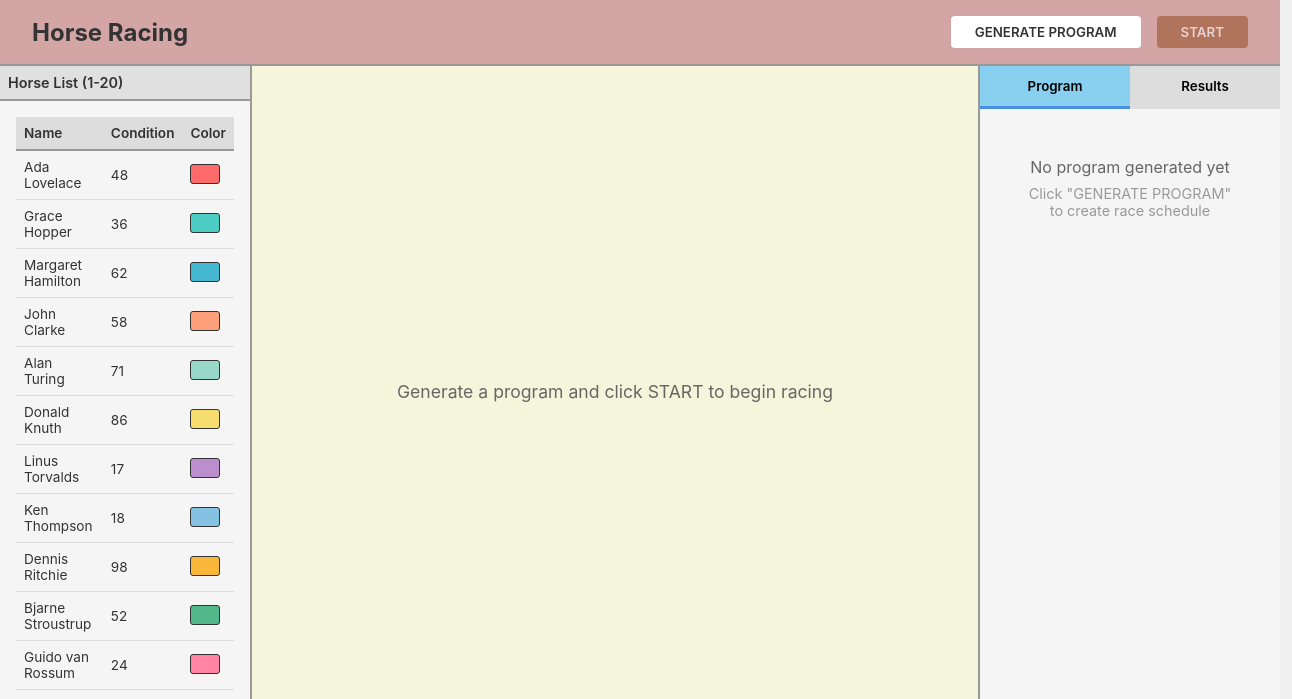
Test case: Horse Racing Game - UI Validation › Results Panel › should show empty state before races
Click the button "GENERATE PROGRAM" at (1046, 32), box [951,16,1141,48]
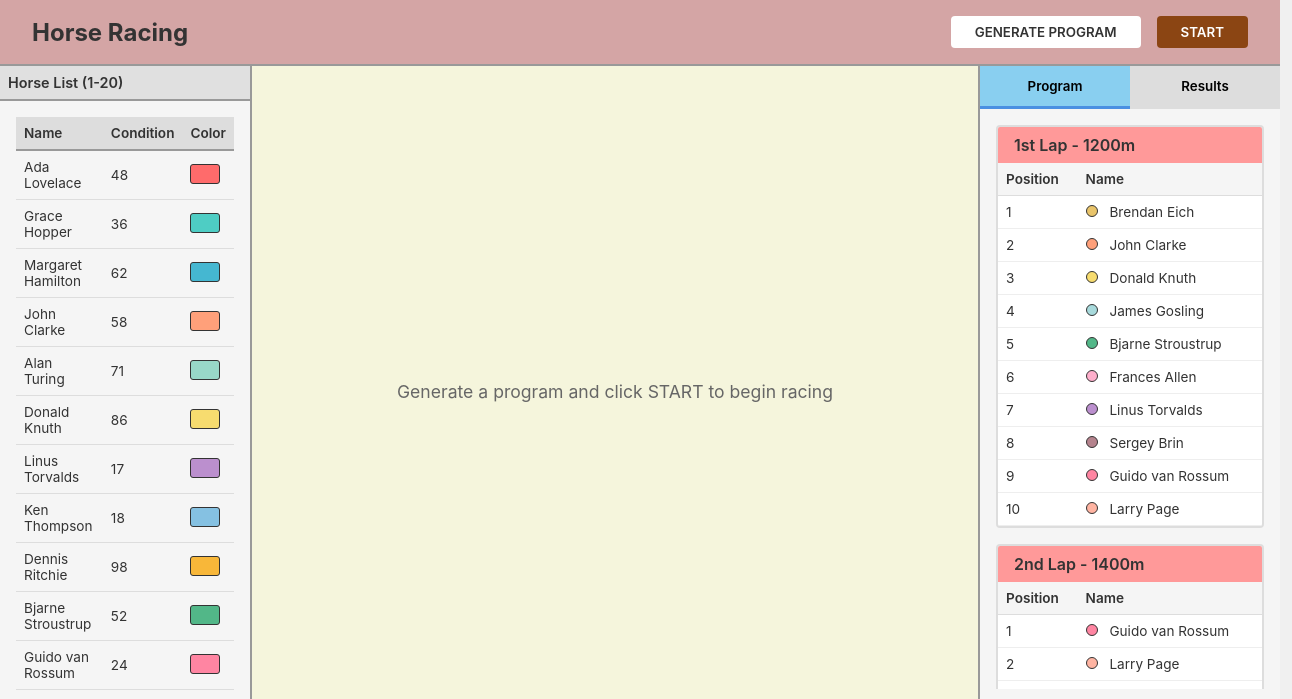
Click the button "Results" at (1205, 88), box [1130,66,1280,109]
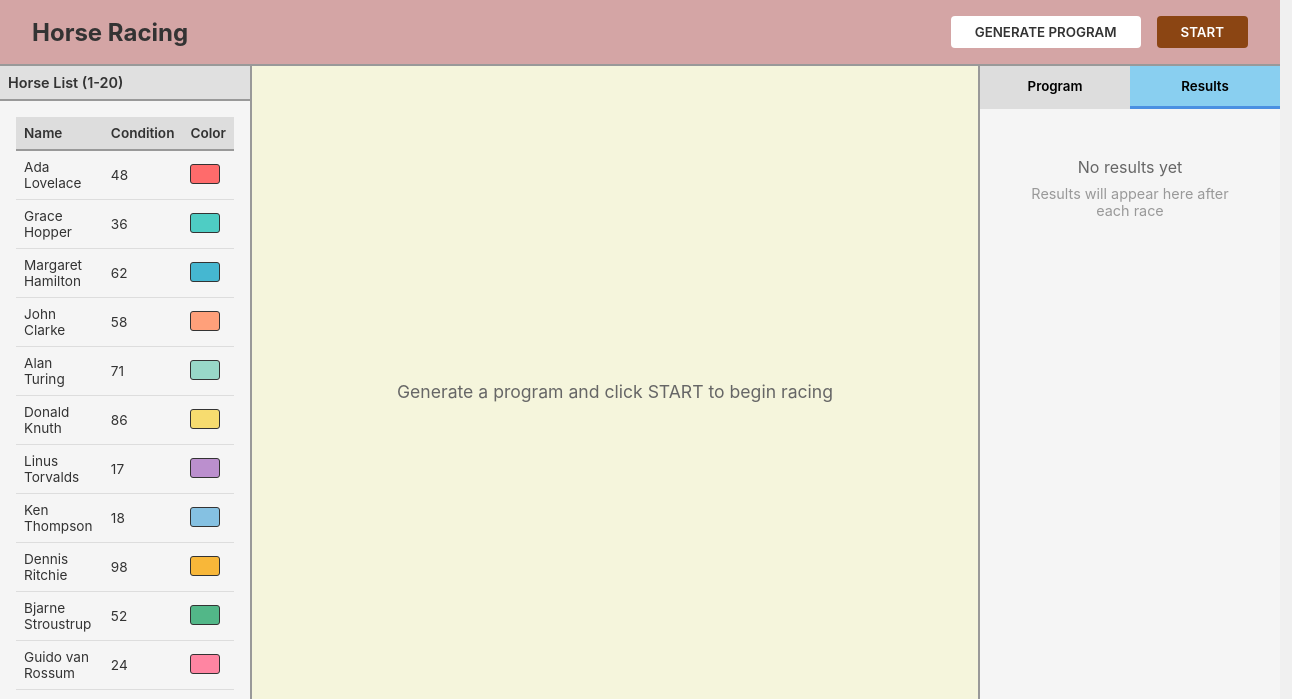
Expected: the text "No results yet" is shown, [1078,157,1182,177]
